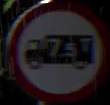Heavy Vehicles: (9, 3, 103, 96)
